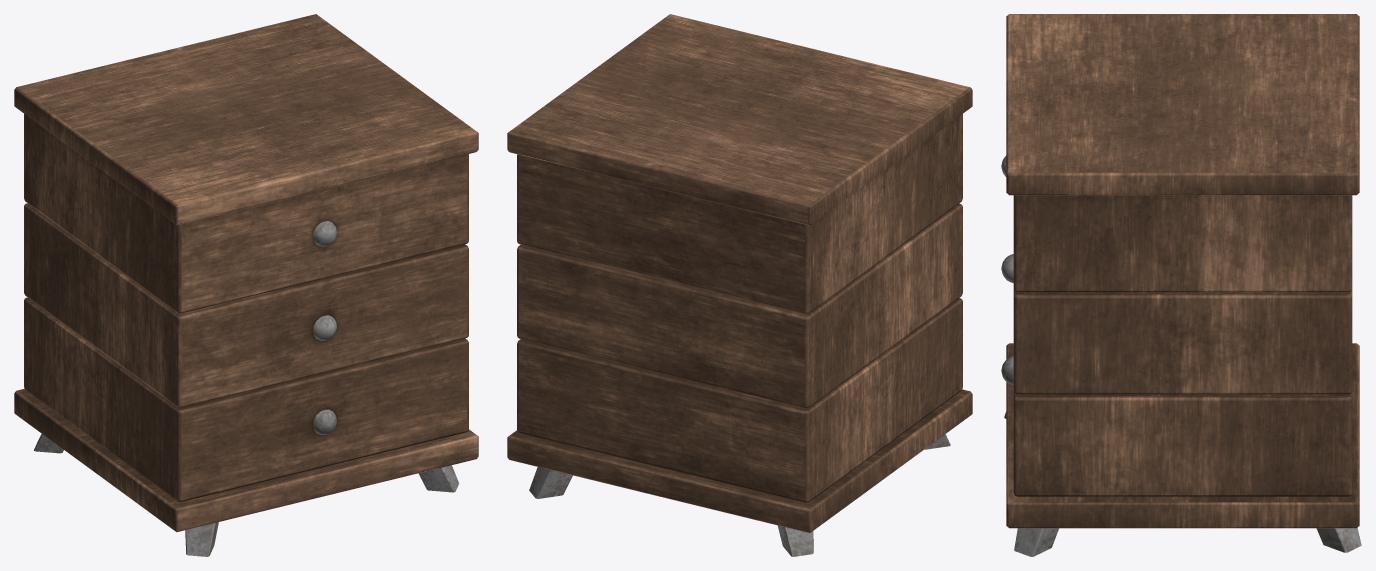
File: tumba.glb
The picture shows the model from 3 angles, left to right: view 1: azimuth 30°, elevation 25°; view 2: azimuth 150°, elevation 25°; view 3: azimuth 270°, elevation 25°; orthographic projection. The views are drawn at different scales.
Visible parts, largest first — view 1: Cube.006; view 2: Cube.006; view 3: Cube.006.
Part boxes in pixels (x1,y1,x2,y2): Cube.006: (14,14,478,556); Cube.006: (507,14,972,556); Cube.006: (1001,14,1361,556).
Size of the model in its own units: 0.4064 by 0.4567 by 0.3844.
1 material, 1 textured.
